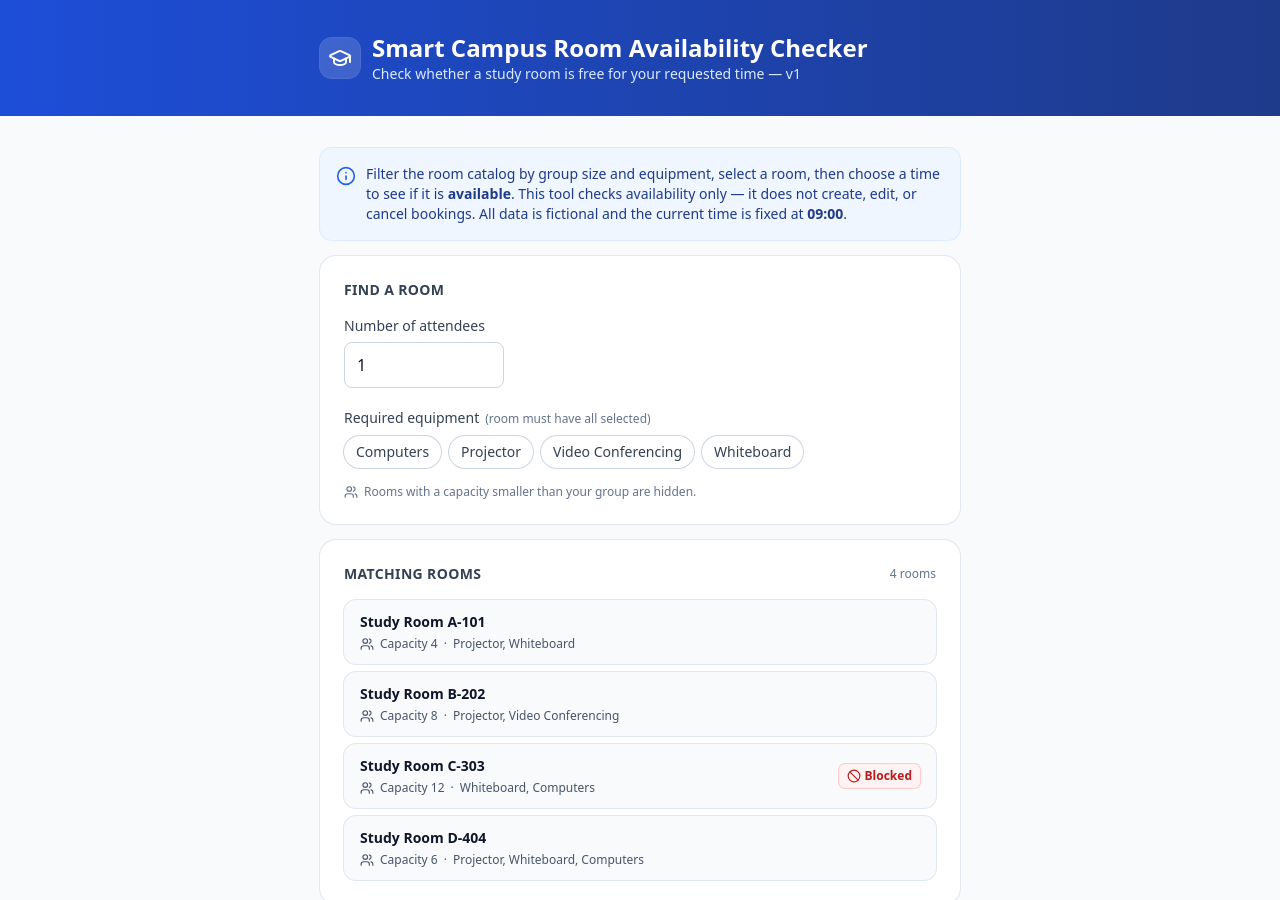
Test: filters › requires all selected equipment
Click the checkbox labelled "Projector".
click(491, 452)  # box top-left (449, 436), bottom-right (533, 468)
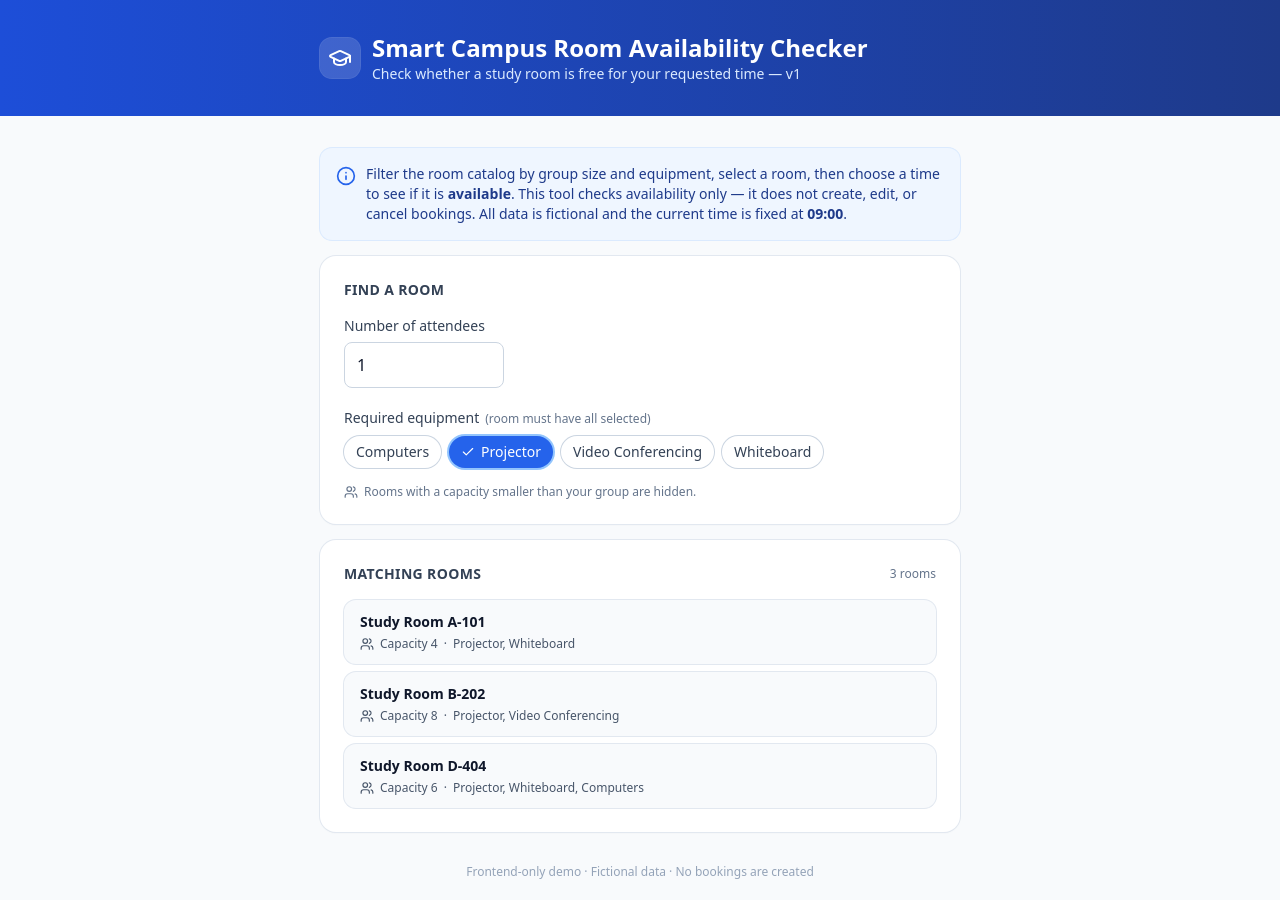
Expected: the button "Study Room A-101 Capacity 4 · Projector, Whiteboard" is shown, top-left (344, 600), bottom-right (936, 664)
Expected: the button "Study Room C-303" is gone
Click the checkbox labelled "Whiteboard".
click(773, 452)  # box top-left (722, 436), bottom-right (823, 468)
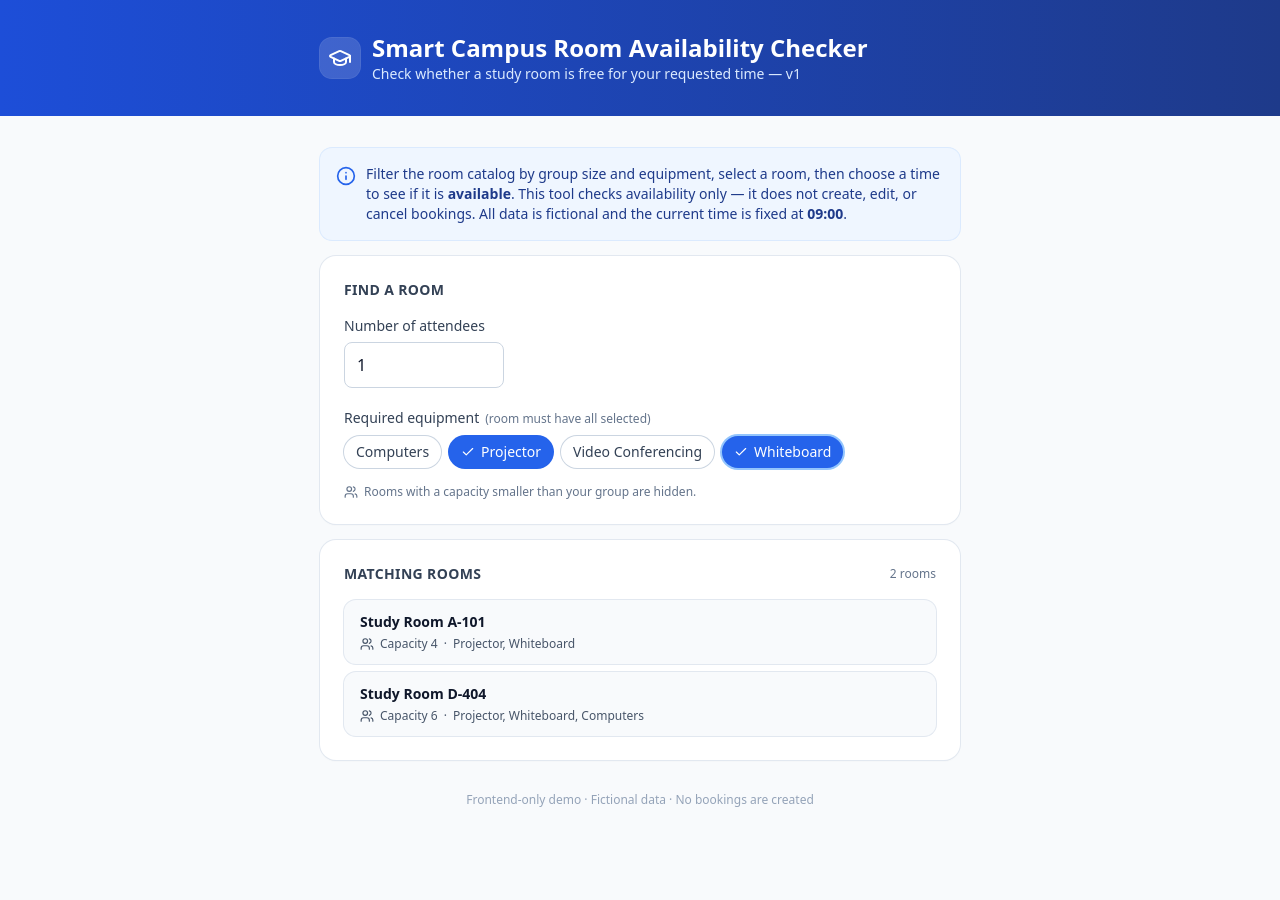
Expected: the button "Study Room A-101 Capacity 4 · Projector, Whiteboard" is shown, top-left (344, 600), bottom-right (936, 664)
Expected: the button "Study Room B-202" is gone
